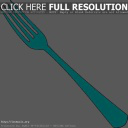fork: (2, 2, 128, 124)
